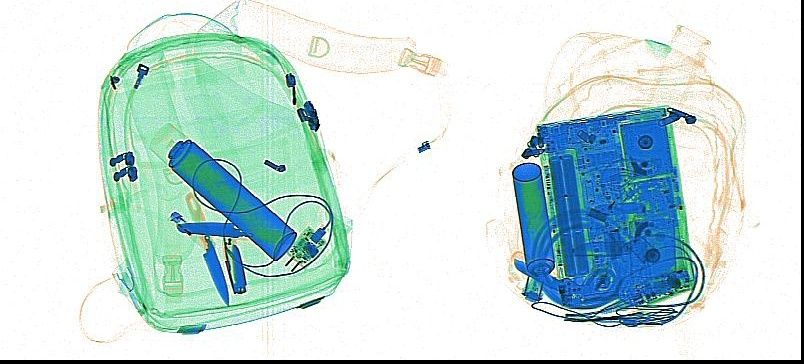knife: (183, 190, 230, 306), (175, 220, 293, 244), (508, 249, 566, 290), (222, 240, 247, 293), (564, 240, 633, 257)
pressure: (148, 120, 297, 261), (510, 161, 556, 277)
